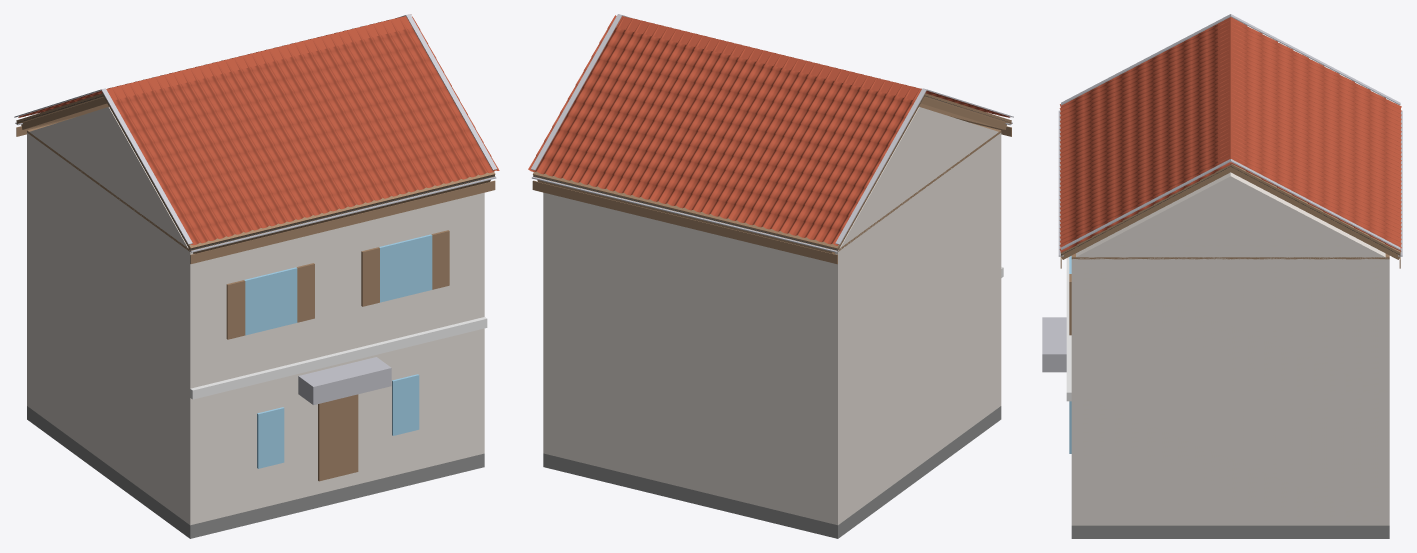
Rendered from Hermosa_Tile_build.glb.
The picture shows the model from 3 angles, left to right: view 1: azimuth 30°, elevation 25°; view 2: azimuth 150°, elevation 25°; view 3: azimuth 270°, elevation 25°; orthographic projection. The views are drawn at different scales.
Parts seen in each view (by area): view 1: GroundFloor_Walls, SecondFloor_Walls, Hermosa_Tile_Front_5, Hermosa_Tile_Front_2, Hermosa_Tile_Front_6, Hermosa_Tile_Front_4, Hermosa_Tile_Front_3, Hermosa_Tile_Front_1, Hermosa_Tile_Front_7, Gable_Wall_Left, Foundation, Ridge_Cap (+18 smaller); view 2: GroundFloor_Walls, SecondFloor_Walls, Hermosa_Tile_Back_1, Hermosa_Tile_Back_5, Hermosa_Tile_Back_6, Hermosa_Tile_Back_4, Hermosa_Tile_Back_3, Hermosa_Tile_Back_2, Hermosa_Tile_Back_7, Gable_Wall_Left, Foundation, Ridge_Cap (+7 smaller); view 3: SecondFloor_Walls, GroundFloor_Walls, Gable_Wall_Right, Foundation, Hermosa_Tile_Front_5, Hermosa_Tile_Front_2, Hermosa_Tile_Front_6, Hermosa_Tile_Front_1, Hermosa_Tile_Front_4, Hermosa_Tile_Front_3, Ridge_Cap, Hermosa_Tile_Front_7 (+18 smaller).
Boxes of the visible parts, left/top/right/bottom form: GroundFloor_Walls: left=27, top=269, right=484, bottom=525; SecondFloor_Walls: left=27, top=133, right=484, bottom=388; Hermosa_Tile_Front_5: left=278, top=37, right=412, bottom=202; Hermosa_Tile_Front_2: left=150, top=69, right=281, bottom=234; Hermosa_Tile_Front_6: left=322, top=27, right=455, bottom=191; Hermosa_Tile_Front_4: left=240, top=48, right=368, bottom=213; Hermosa_Tile_Front_3: left=196, top=59, right=325, bottom=223; Hermosa_Tile_Front_1: left=112, top=80, right=238, bottom=245; Hermosa_Tile_Front_7: left=372, top=16, right=499, bottom=181; Gable_Wall_Left: left=29, top=107, right=188, bottom=248; Foundation: left=27, top=406, right=484, bottom=538; Ridge_Cap: left=106, top=16, right=412, bottom=100; GroundFloor_Walls: left=543, top=269, right=1001, bottom=525; SecondFloor_Walls: left=543, top=133, right=1001, bottom=388; Hermosa_Tile_Back_1: left=789, top=79, right=919, bottom=245; Hermosa_Tile_Back_5: left=615, top=36, right=745, bottom=202; Hermosa_Tile_Back_6: left=572, top=26, right=701, bottom=191; Hermosa_Tile_Back_4: left=659, top=47, right=789, bottom=212; Hermosa_Tile_Back_3: left=702, top=57, right=832, bottom=223; Hermosa_Tile_Back_2: left=745, top=68, right=875, bottom=234; Hermosa_Tile_Back_7: left=528, top=15, right=658, bottom=181; Gable_Wall_Left: left=840, top=107, right=998, bottom=249; Foundation: left=543, top=406, right=1001, bottom=538; Ridge_Cap: left=616, top=16, right=921, bottom=100; SecondFloor_Walls: left=1071, top=259, right=1389, bottom=392; GroundFloor_Walls: left=1071, top=392, right=1389, bottom=525; Gable_Wall_Right: left=1073, top=172, right=1387, bottom=259; Foundation: left=1071, top=525, right=1389, bottom=538; Hermosa_Tile_Front_5: left=1059, top=99, right=1229, bottom=210; Hermosa_Tile_Front_2: left=1059, top=37, right=1229, bottom=148; Hermosa_Tile_Front_6: left=1059, top=123, right=1229, bottom=231; Hermosa_Tile_Front_1: left=1059, top=20, right=1229, bottom=128; Hermosa_Tile_Front_4: left=1060, top=79, right=1229, bottom=189; Hermosa_Tile_Front_3: left=1059, top=62, right=1229, bottom=169; Ridge_Cap: left=1218, top=17, right=1243, bottom=164; Hermosa_Tile_Front_7: left=1059, top=141, right=1230, bottom=252.
Size of the model in its own units: 7.15 by 8.6 by 7.36.
